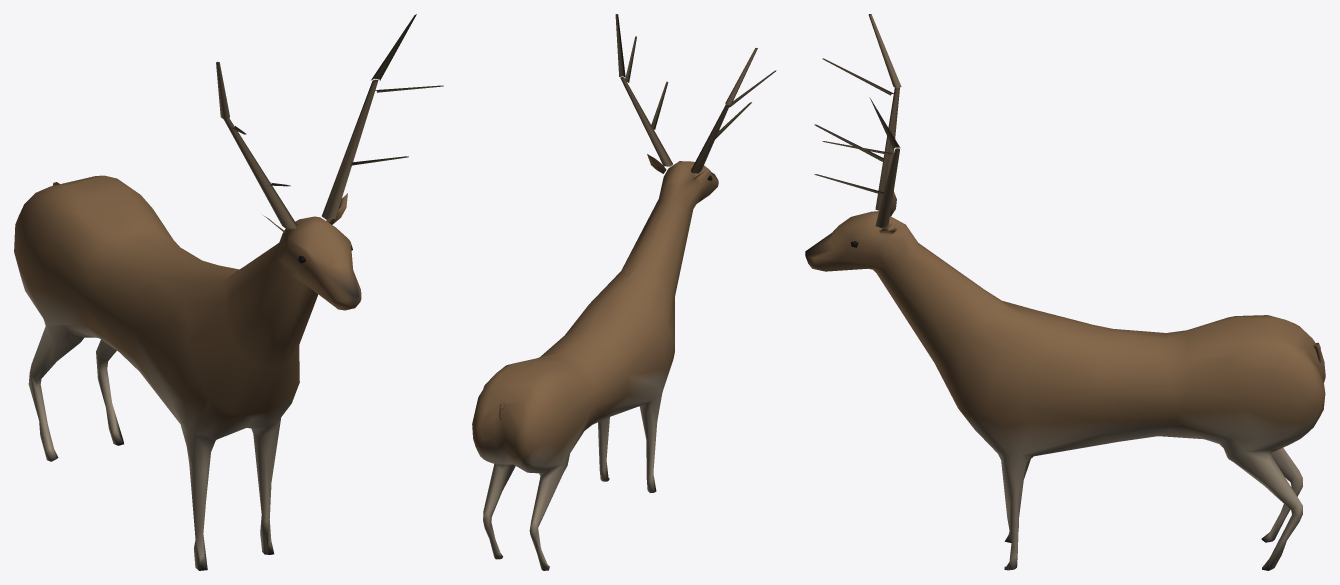
Rendered from rentier.glb.
The picture shows the model from 3 angles, left to right: view 1: azimuth 30°, elevation 25°; view 2: azimuth 150°, elevation 25°; view 3: azimuth 270°, elevation 25°; orthographic projection. The views are drawn at different scales.
Parts seen in each view (by area): view 1: lack; view 2: lack; view 3: lack.
Part boxes in pixels (<box>): lack: <box>14,14,443,570</box>; lack: <box>472,14,776,570</box>; lack: <box>805,14,1325,570</box>.
Size of the model in its own units: 1.02 by 2.82 by 2.66.
